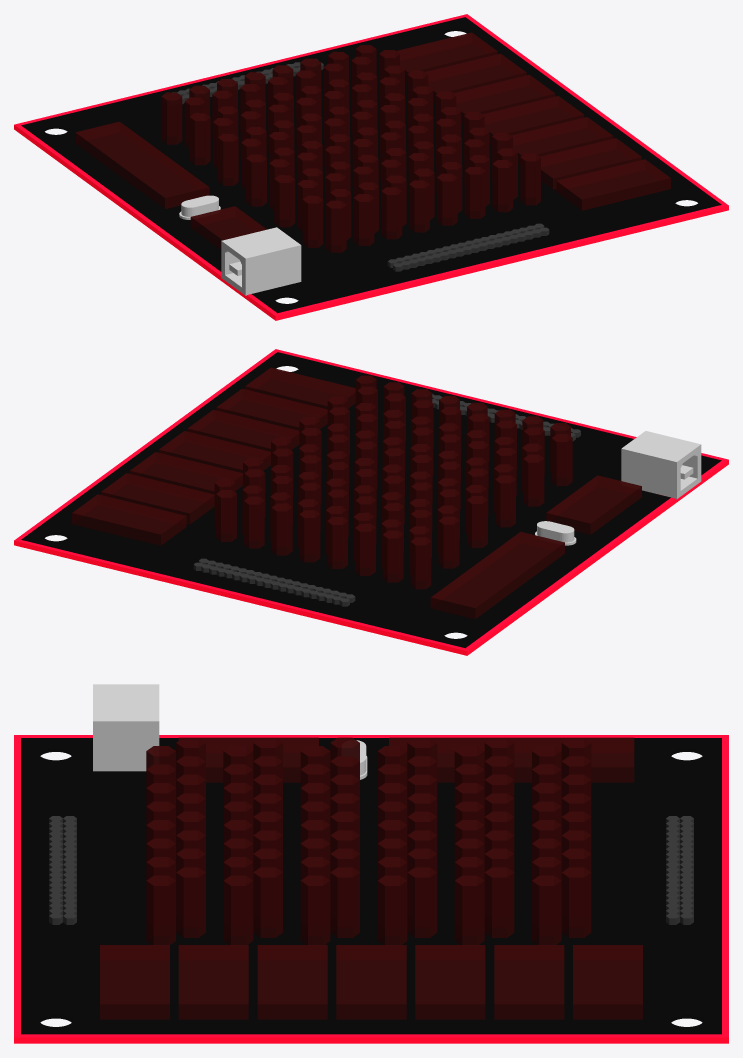
File: MixerPanel2022.fbx
3 views of the same model, one above another, from view 1: azimuth 30°, elevation 25°; view 2: azimuth 150°, elevation 25°; view 3: azimuth 270°, elevation 25° (orthographic). The views are drawn at different scales.
Parts seen in each view (by area): view 1: Cube, Cube.012, Cube.002, Cube.001, Cube.004, Cube.007, Cube.003, Cube.009, Cube.005, Cube.008, Cube.006, Cylinder.002 (+22 smaller); view 2: Cube, Cube.012, Cube.002, Cube.001, Cube.006, Cube.010, Cube.009, Cube.004, Cube.007, Cube.003, Cube.005, Cube.008 (+16 smaller); view 3: Cube, Cube.012, Cube.001, Cube.003, Cube.005, Cube.007, Cube.008, Cube.009, Cube.004, Cube.006, Cube.002, Cylinder.001 (+75 smaller).
Boxes of the visible parts, x1,y1,x2,y2 form: Cube: (21, 17, 721, 313); Cube.012: (14, 14, 728, 320); Cube.002: (75, 121, 209, 209); Cube.001: (221, 227, 301, 295); Cube.004: (556, 159, 670, 210); Cube.007: (540, 138, 641, 189); Cube.003: (483, 96, 584, 144); Cube.009: (425, 53, 526, 103); Cube.005: (511, 117, 613, 165); Cube.008: (454, 74, 555, 123); Cube.006: (396, 32, 497, 82); Cylinder.002: (387, 223, 549, 271); Cube: (21, 352, 721, 648); Cube.012: (14, 349, 728, 655); Cube.002: (430, 531, 564, 619); Cube.001: (621, 431, 701, 499); Cube.006: (72, 494, 186, 545); Cube.010: (546, 475, 641, 534); Cube.009: (101, 473, 214, 524); Cube.004: (245, 367, 355, 409); Cube.007: (216, 388, 327, 430); Cube.003: (158, 431, 270, 473); Cube.005: (187, 409, 299, 451); Cube.008: (129, 452, 242, 494); Cube: (21, 738, 721, 1034); Cube.012: (14, 735, 728, 1043); Cube.001: (93, 684, 159, 771); Cube.003: (336, 945, 406, 1019); Cube.005: (257, 945, 327, 1019); Cube.007: (178, 945, 248, 1019); Cube.008: (415, 945, 485, 1019); Cube.009: (494, 945, 564, 1019); Cube.004: (100, 945, 169, 1019); Cube.006: (573, 945, 642, 1019); Cube.002: (389, 737, 634, 782); Cylinder.001: (666, 816, 693, 924).
Size of the model in its own units: 2045 by 210 by 2040.
